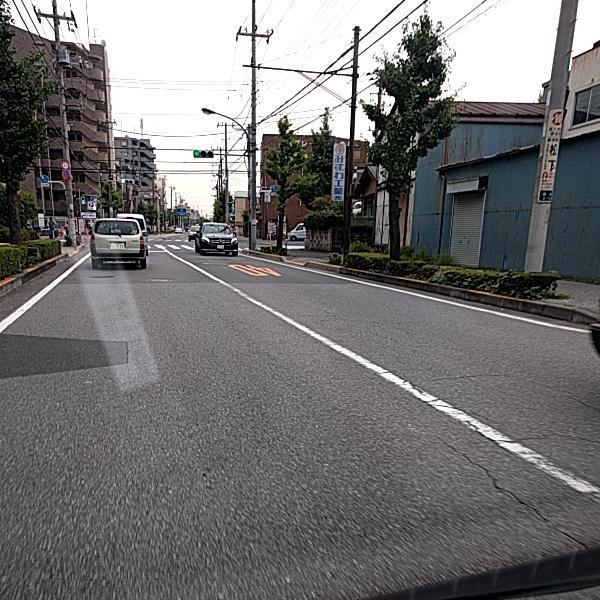D44: (357, 353, 596, 498)
